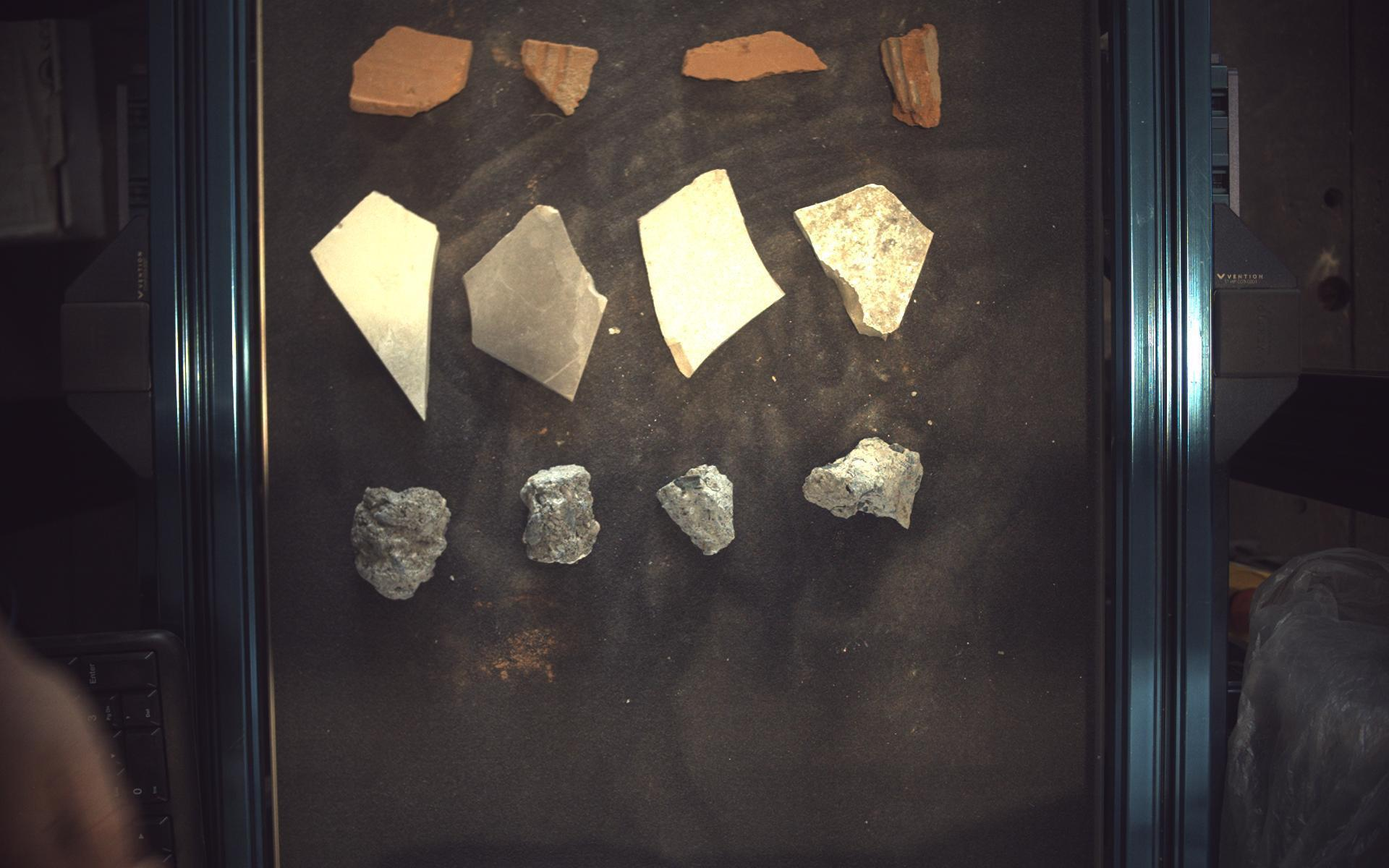brick: (349, 25, 472, 116), (684, 30, 828, 80), (883, 22, 943, 127), (521, 38, 599, 114)
concrete: (351, 488, 451, 600), (804, 438, 925, 528), (521, 465, 600, 565), (658, 465, 736, 556)
tile: (640, 169, 786, 378), (310, 191, 438, 420), (464, 204, 608, 401), (796, 183, 935, 337)
